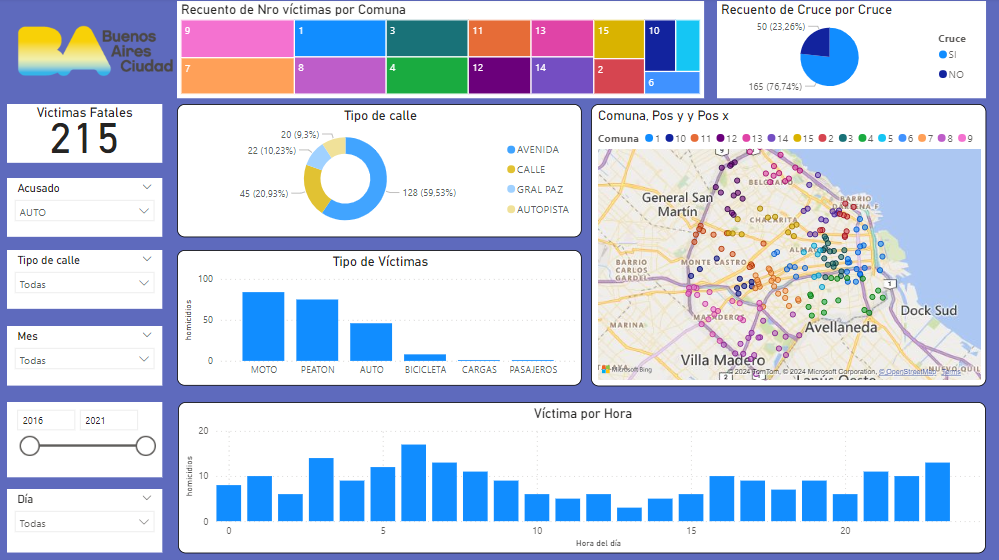

Layout of this report page (visuals, bound fields, positions):
{"tool":"powerbi","page":{"name":"Dashboard","canvas":[1280,720],"ordinal":0},"visuals":[{"type":"slicer","fields":{"Values":["homicidios_clean_eda.Año"]},"box":[12.2,514.4,197.5,96.5],"z":0},{"type":"slicer","fields":{"Values":["homicidios_clean_eda.Día"]},"box":[12.2,626.2,197.5,81.1],"z":1000},{"type":"image","box":[0,0,251.1,134.7],"z":2000},{"type":"clusteredColumnChart","title":"Víctima por Hora","fields":{"Category":["homicidios_clean_eda.Hora estandar"],"Y":["homicidios_clean_eda.homicidios"]},"box":[231.2,514.4,1030.4,192.9],"z":3000},{"type":"slicer","fields":{"Values":["homicidios_clean_eda.Tipo de calle"]},"box":[12.7,321.3,197.6,75.2],"z":4000},{"type":"slicer","fields":{"Values":["homicidios_clean_eda.Mes"]},"box":[12.7,418.2,197.6,76.5],"z":5000},{"type":"slicer","fields":{"Values":["homicidios_clean_eda.Acusado"]},"box":[12.7,229.5,197.6,75.2],"z":6000},{"type":"clusteredColumnChart","title":"Tipo de Víctimas","fields":{"Y":["homicidios_clean_eda.homicidios"],"Category":["homicidios_clean_eda.Víctima"]},"box":[229.5,321.3,516.3,173.4],"z":7000},{"type":"card","title":"Victimas Fatales","fields":{"Values":["CountNonNull(homicidios_clean_eda.Nro víctimas)"]},"box":[12.7,135.1,197.6,75.2],"z":8000},{"type":"donutChart","title":"Tipo de calle","fields":{"Category":["homicidios_clean_eda.Tipo de calle"],"Y":["CountNonNull(homicidios_clean_eda.Tipo de calle)"]},"box":[229.5,135.1,516.3,169.6],"z":9000},{"type":"map","fields":{"X":["homicidios_clean_eda.Pos x"],"Series":["homicidios_clean_eda.Comuna"],"Y":["homicidios_clean_eda.Pos y"]},"box":[757.3,135.1,503.6,359.5],"z":10000},{"type":"pieChart","fields":{"Category":["homicidios_clean_eda.Cruce"],"Y":["CountNonNull(homicidios_clean_eda.Cruce)"]},"box":[917.9,3.8,342.9,123.7],"z":11000},{"type":"treemap","fields":{"Details":["homicidios_clean_eda.Comuna"],"Values":["CountNonNull(homicidios_clean_eda.Nro víctimas)"]},"box":[229.5,3.8,671.9,123.7],"z":12000}]}

Visuals, with their boxes in screenshot pixels (x1, y1, x2, y2), scaled from the page's 1280x720 canvas onto the 999x560 screenshot:
slicer - homicidios_clean_eda.Año: [10, 400, 164, 475]
slicer - homicidios_clean_eda.Día: [10, 487, 164, 550]
image: [0, 0, 196, 105]
"Víctima por Hora" clusteredColumnChart: [180, 400, 985, 550]
slicer - homicidios_clean_eda.Tipo de calle: [10, 250, 164, 308]
slicer - homicidios_clean_eda.Mes: [10, 325, 164, 385]
slicer - homicidios_clean_eda.Acusado: [10, 178, 164, 237]
"Tipo de Víctimas" clusteredColumnChart: [179, 250, 582, 385]
"Victimas Fatales" card: [10, 105, 164, 164]
"Tipo de calle" donutChart: [179, 105, 582, 237]
map - homicidios_clean_eda.Pos x x homicidios_clean_eda.Comuna: [591, 105, 984, 385]
pieChart - homicidios_clean_eda.Cruce x CountNonNull(homicidios_clean_eda.Cruce): [716, 3, 984, 99]
treemap - homicidios_clean_eda.Comuna x CountNonNull(homicidios_clean_eda.Nro víctimas): [179, 3, 704, 99]
